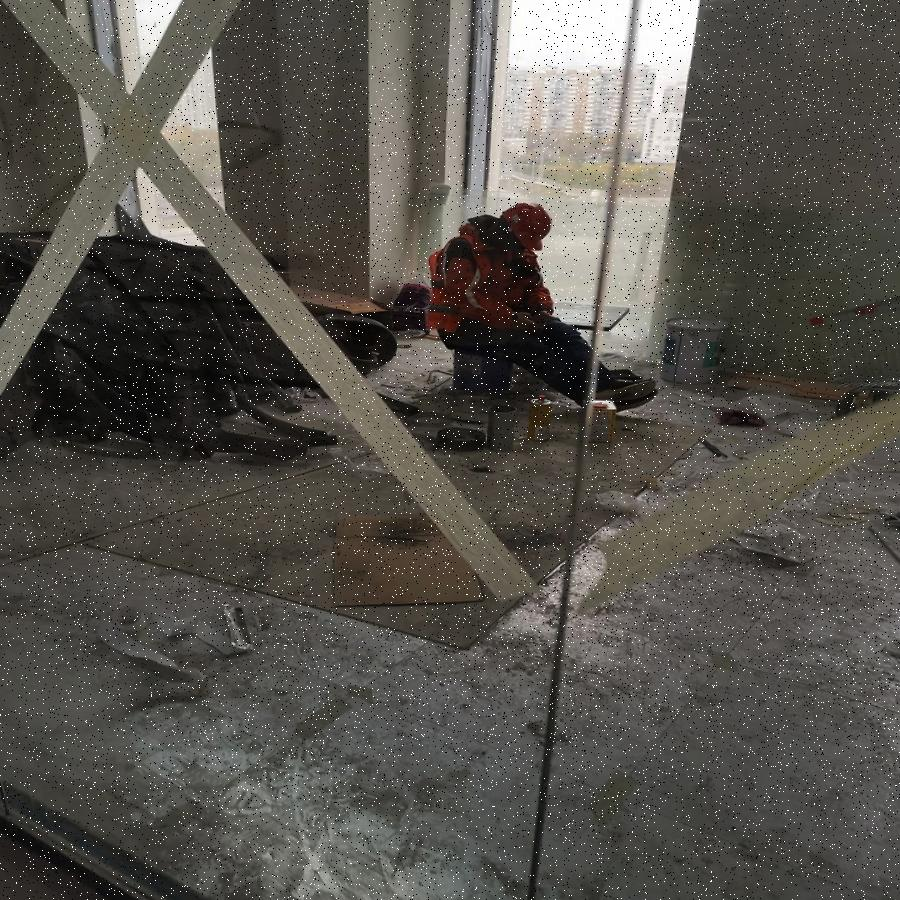Helmet: (498, 202, 556, 252)
